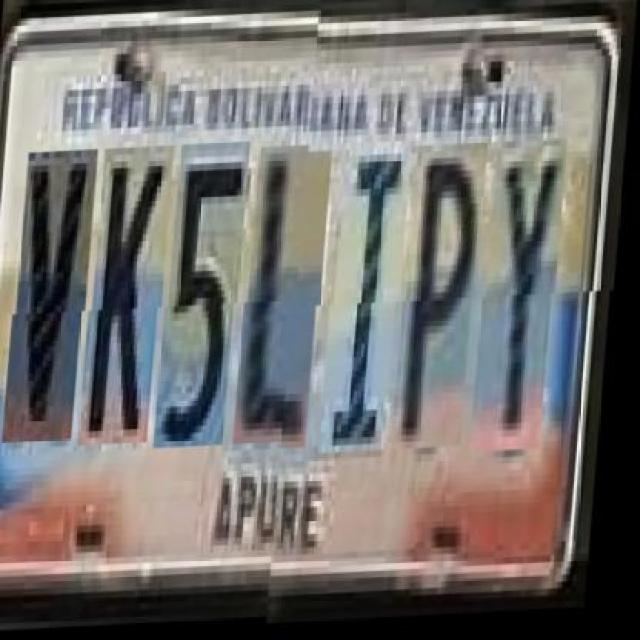5: (165, 151, 252, 457)
i: (330, 151, 415, 457)
k: (89, 154, 176, 454)
l: (243, 154, 335, 454)
p: (402, 148, 490, 454)
v: (12, 158, 100, 450)
y: (482, 144, 570, 458)
